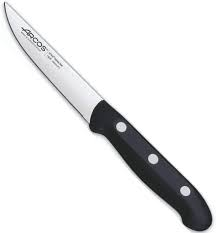kuchillu: (2, 1, 213, 231)
